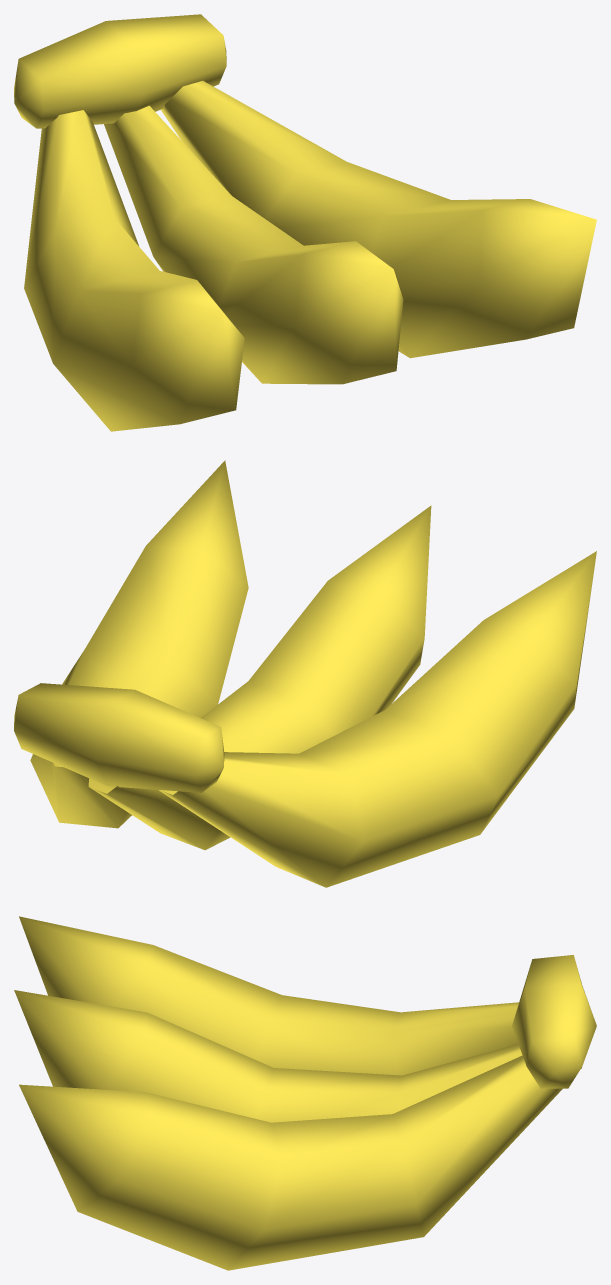
The model's file is Banana.fbx.
3 renders of one model, top to bottom at view 1: azimuth 30°, elevation 25°; view 2: azimuth 150°, elevation 25°; view 3: azimuth 270°, elevation 25°, orthographic. The views are drawn at different scales.
Parts seen in each view (by area): view 1: Banana; view 2: Banana; view 3: Banana.
Part boxes in pixels (x1=…): Banana: x1=14, y1=14, x2=596, y2=431; Banana: x1=14, y1=460, x2=596, y2=887; Banana: x1=14, y1=916, x2=596, y2=1270.
Bounding box in the file's own units: 160 × 77.19 × 198.
